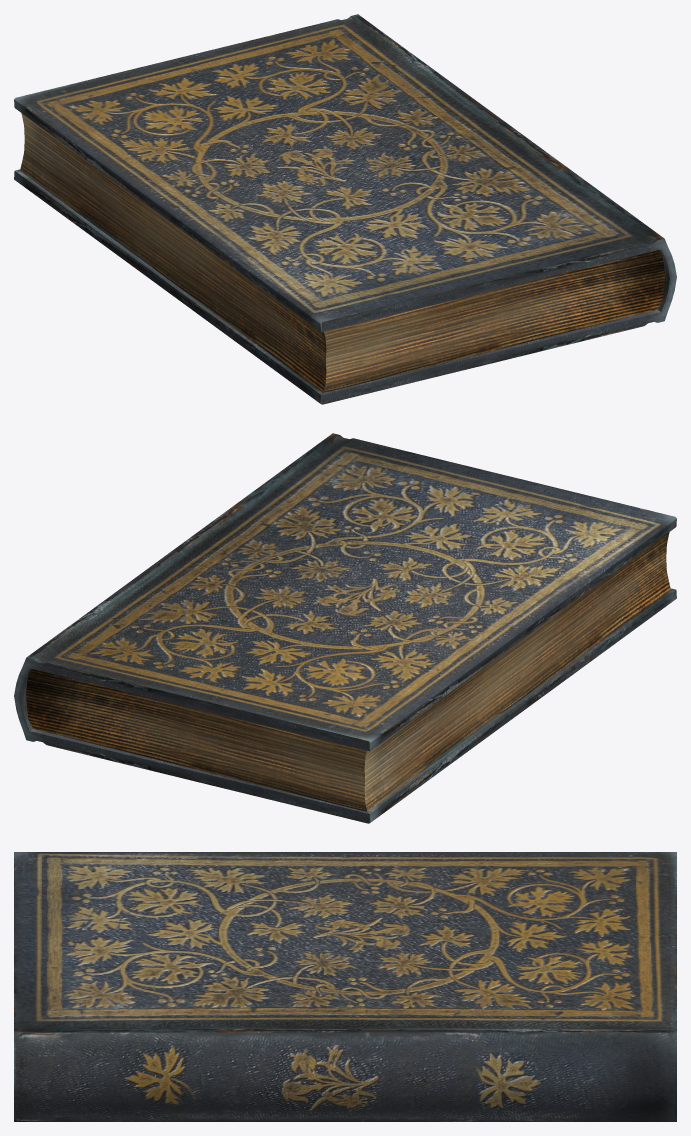
Rendered from diary.fbx.
3 views of the same model, one above another, from view 1: azimuth 30°, elevation 25°; view 2: azimuth 150°, elevation 25°; view 3: azimuth 270°, elevation 25° (orthographic). The views are drawn at different scales.
Parts seen in each view (by area): view 1: book01; view 2: book01; view 3: book01.
Part boxes in pixels (<box>): book01: <box>14,14,676,404</box>; book01: <box>14,433,676,823</box>; book01: <box>14,852,676,1121</box>.
Bounding box in the file's own units: 35.58 × 7.88 × 53.02.
